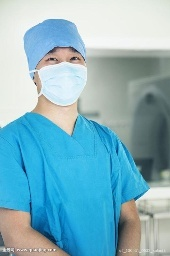correctlyWear: (28, 47, 88, 105)
